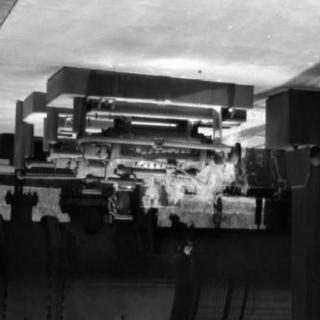Fire: (182, 240, 196, 256)
